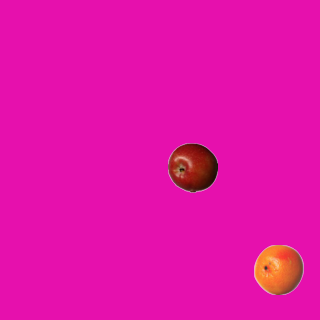Apple Braeburn: (167, 142, 217, 192)
Grapefruit Pink: (253, 244, 303, 294)
